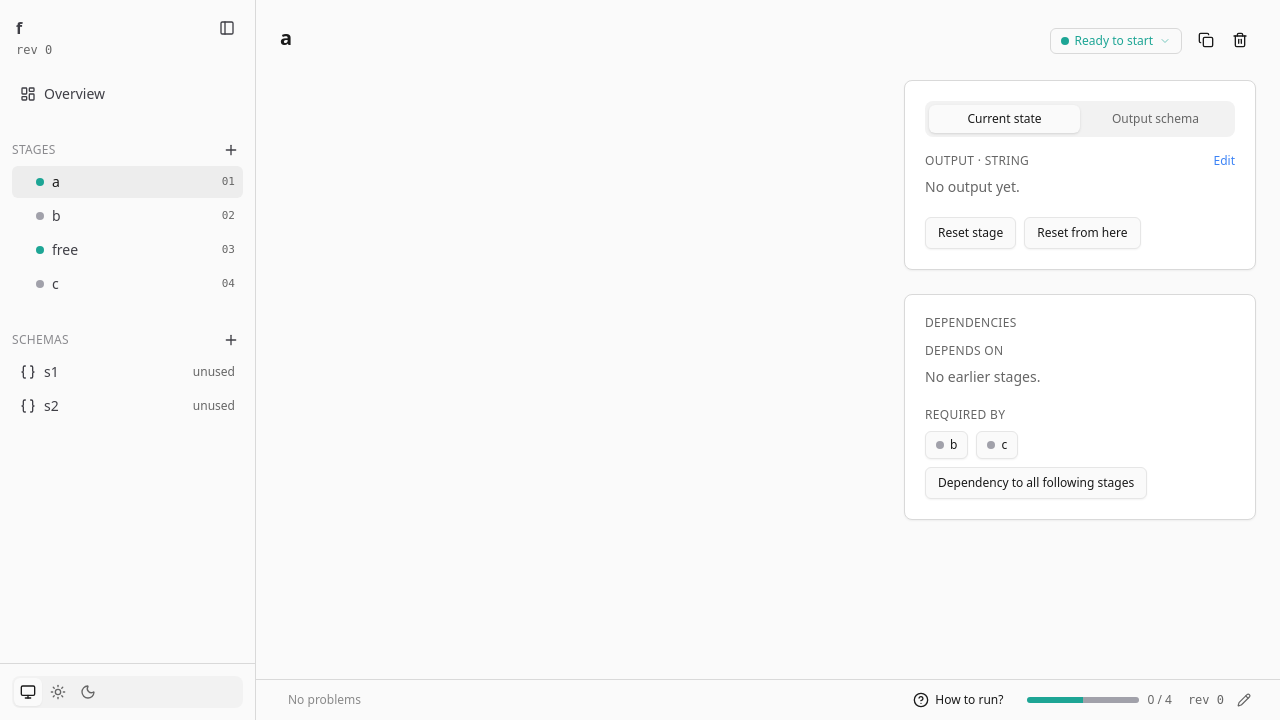
it: stage list › cancel_keeps_the_stage
Click the button named "Delete stage".
click(1240, 40)  # box [1224,24,1256,56]
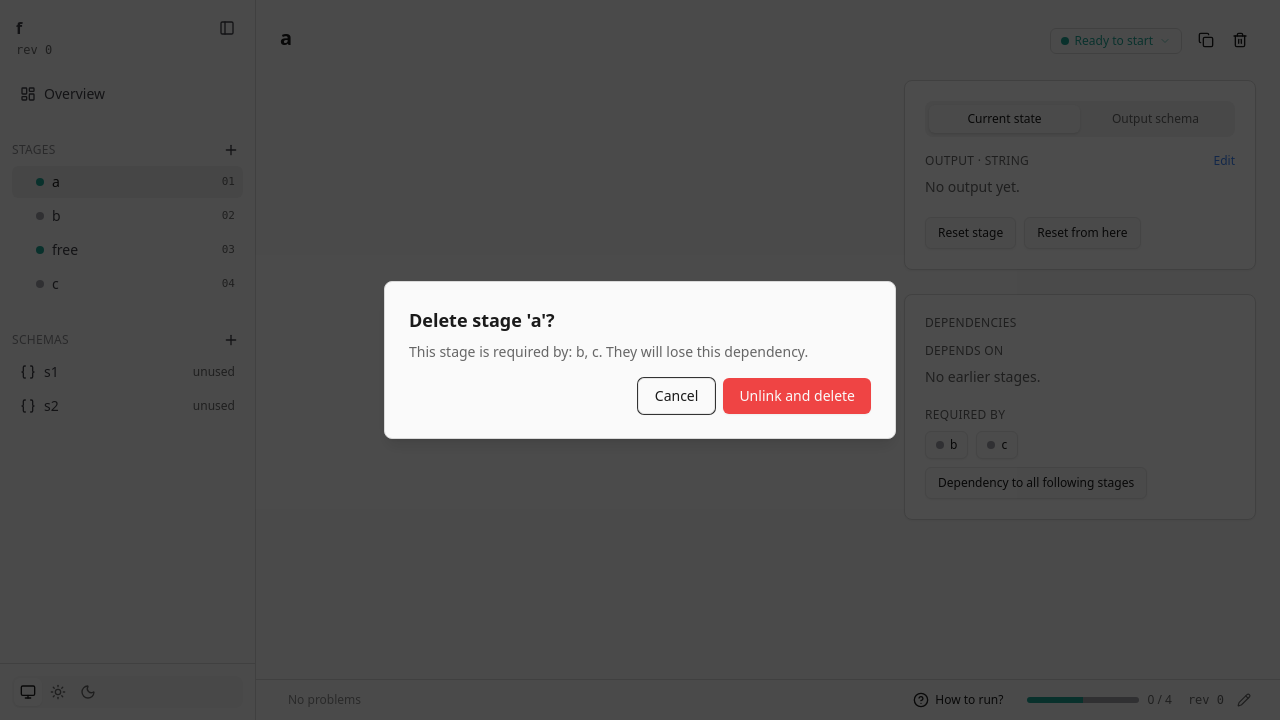
Click the button "Cancel".
click(677, 396)  # box [638,378,715,414]
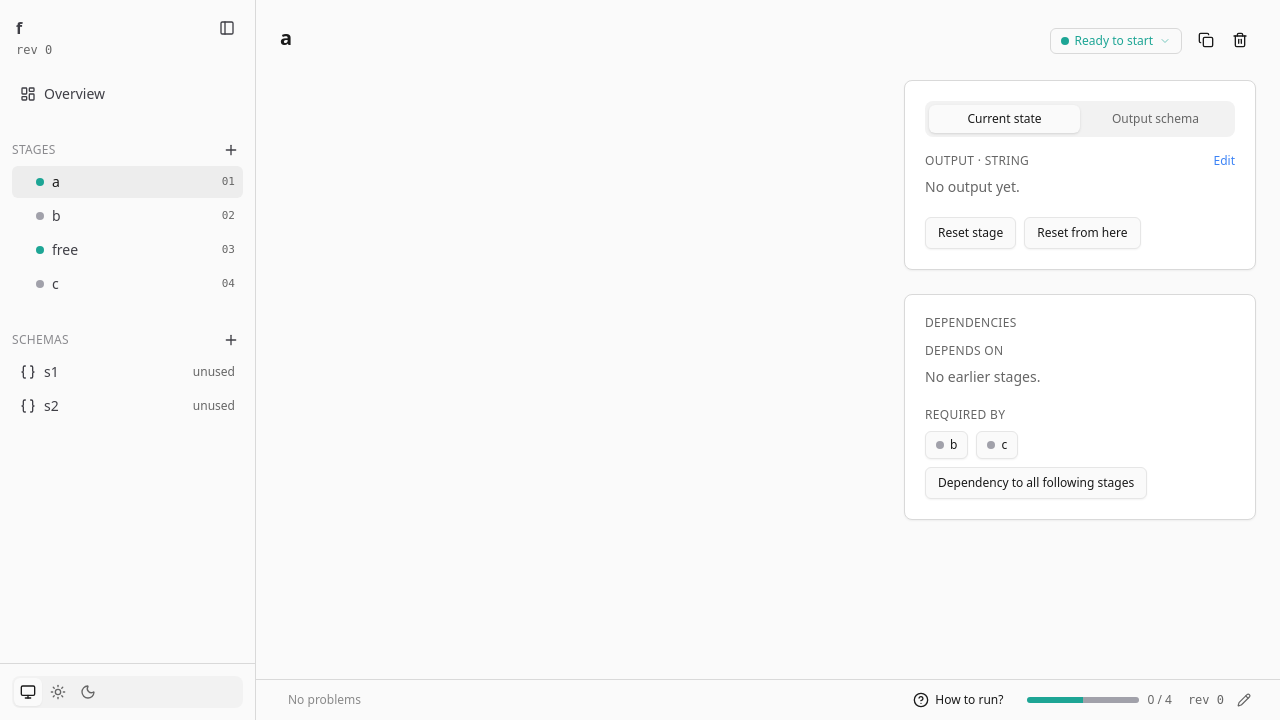
Now the dialog is gone
